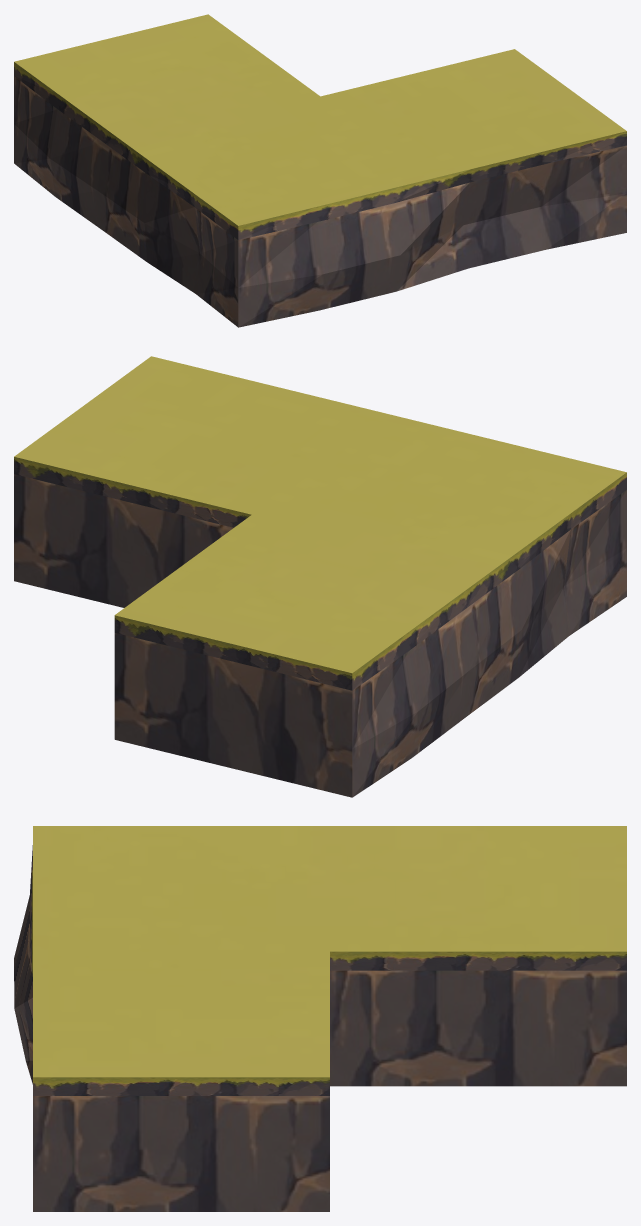
File: SM_RC_Terrain_CliffCorner_Outer_8x8x2.gltf
3 renders of one model, top to bottom at view 1: azimuth 30°, elevation 25°; view 2: azimuth 150°, elevation 25°; view 3: azimuth 270°, elevation 25°, orthographic. The views are drawn at different scales.
Visible parts, largest first — view 1: SM_RC_Terrain_CliffCorner_Outer_8x8x2; view 2: SM_RC_Terrain_CliffCorner_Outer_8x8x2; view 3: SM_RC_Terrain_CliffCorner_Outer_8x8x2.
Part boxes in pixels (left/top/right/bottom): SM_RC_Terrain_CliffCorner_Outer_8x8x2: left=14, top=14, right=626, bottom=327; SM_RC_Terrain_CliffCorner_Outer_8x8x2: left=14, top=356, right=626, bottom=797; SM_RC_Terrain_CliffCorner_Outer_8x8x2: left=14, top=826, right=626, bottom=1211.
Bounding box in the file's own units: 8.18 × 2 × 8.25.
1 material, 1 textured.
